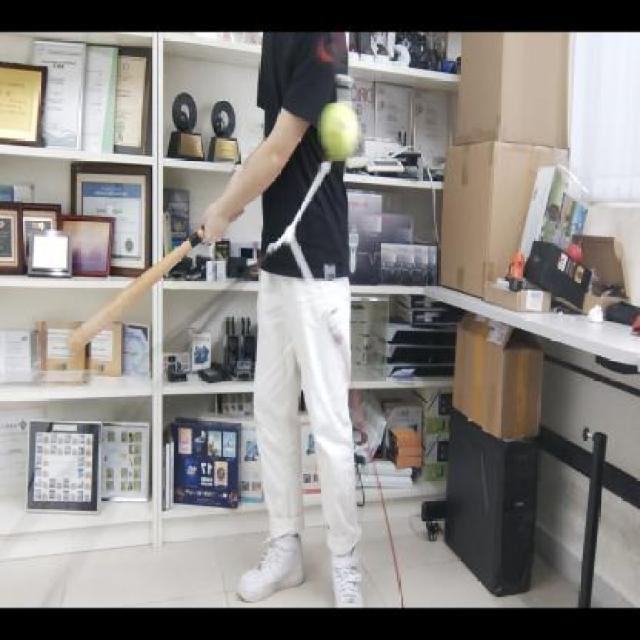baseball: (315, 97, 363, 166)
